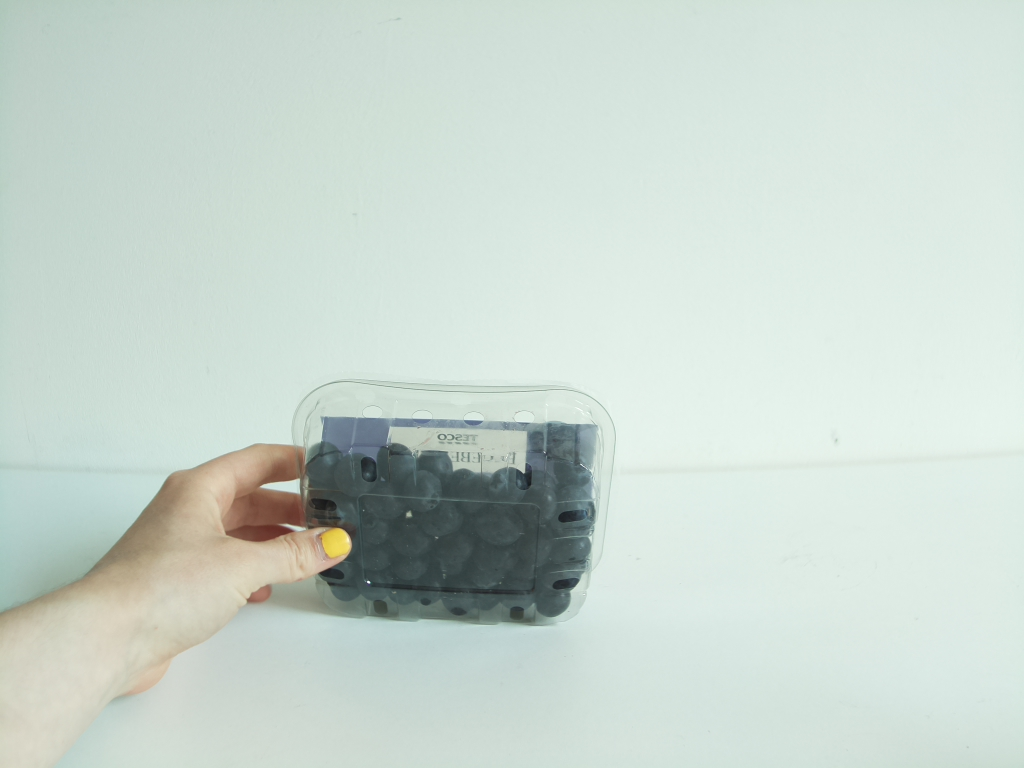soft-fruit: (287, 380, 608, 626)
